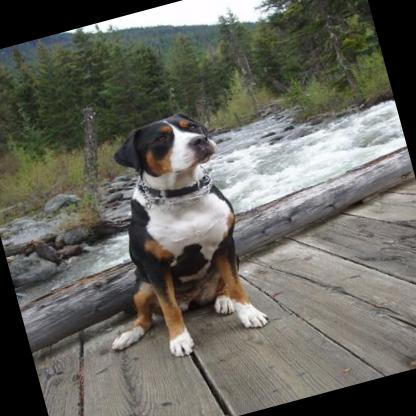Greater_Swiss_Mountain_dog: (51, 100, 274, 377)
